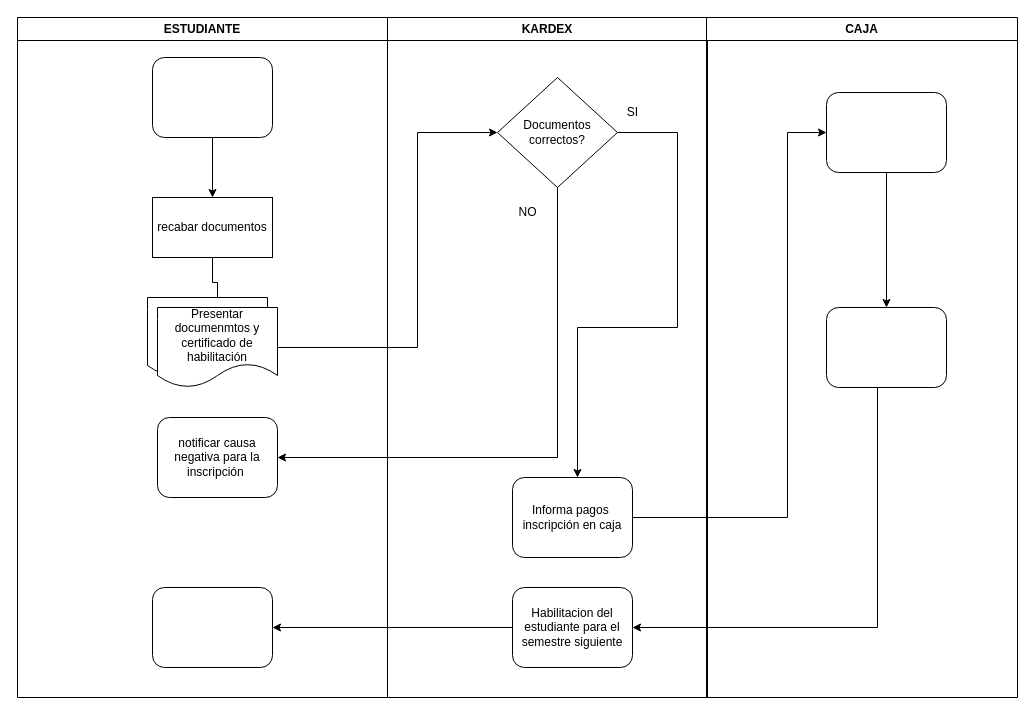
This 1035x715 diagram has some shape labels left out. The centre of each missing label's shape, as x and y in pixels:
Averiguar fecha de inscripción: (212,97)
Pago de matricula: (886,132)
Registro del pago de matricula: (886,347)
Verifica el horario asignado: (212,627)
